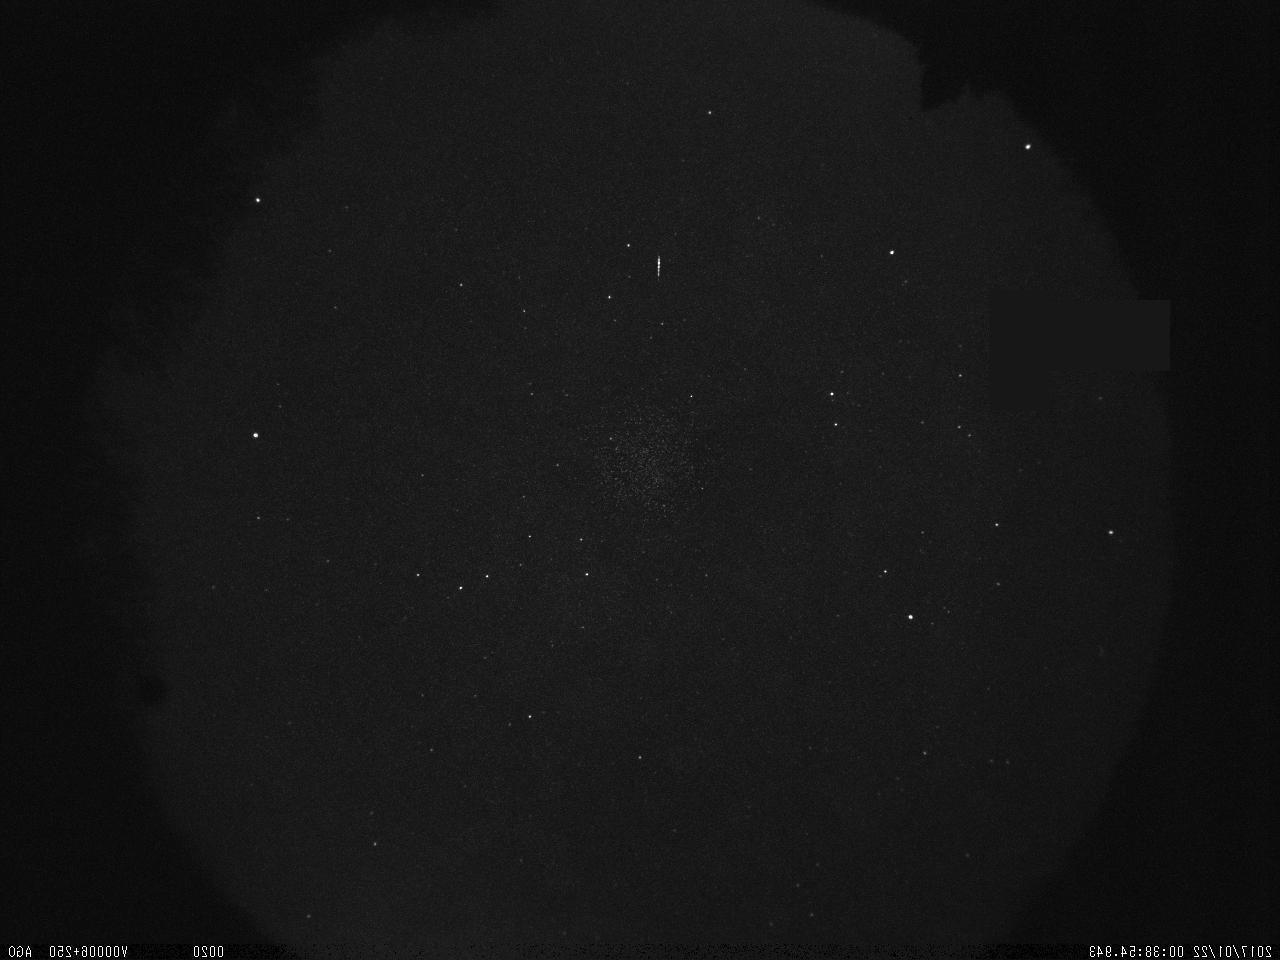meteor: (646, 240, 670, 284)
